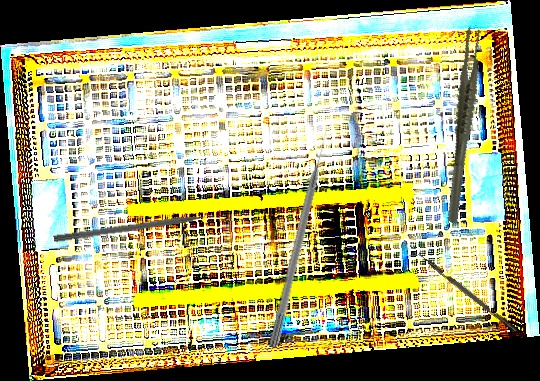Chopper: (409, 247, 518, 338)
Pusher: (267, 131, 334, 349), (53, 211, 226, 244)
Tissue Forceps: (411, 25, 515, 225)
